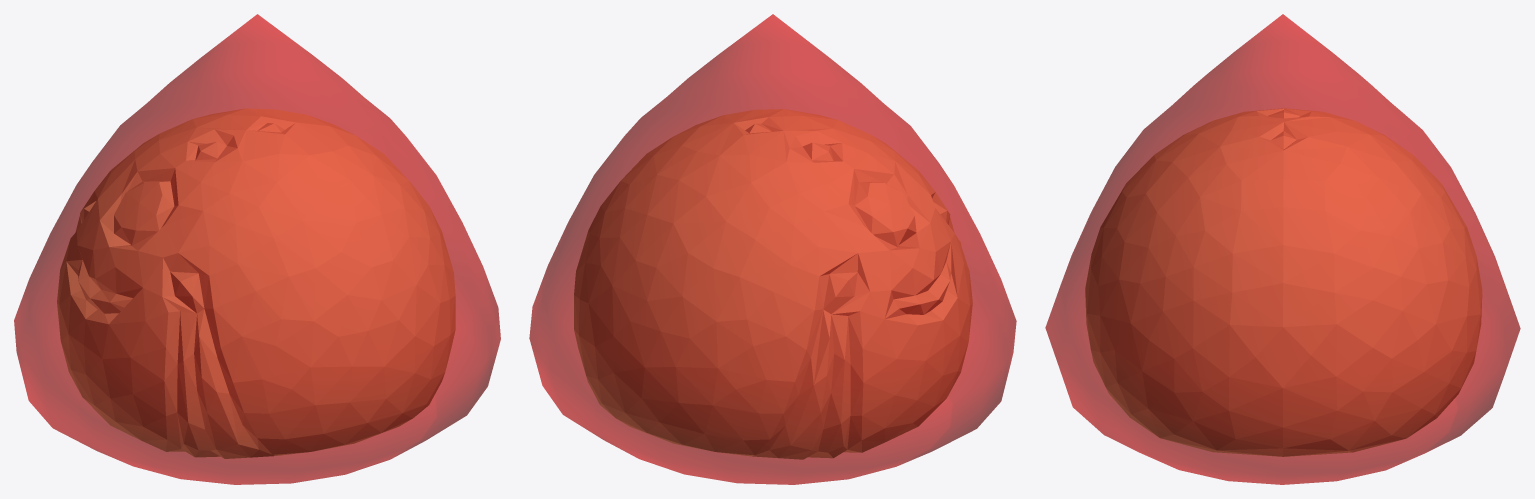
File: fire sprite cel test.fbx
3 renders of one model, left to right at view 1: azimuth 30°, elevation 25°; view 2: azimuth 150°, elevation 25°; view 3: azimuth 270°, elevation 25°, orthographic.
Visible parts, largest first — view 1: pSphere1, sprite_statue:Group44008; view 2: pSphere1, sprite_statue:Group44008; view 3: pSphere1, sprite_statue:Group44008.
Part boxes in pixels (x1,y1,x2,y2): pSphere1: [14, 14, 500, 484]; sprite_statue:Group44008: [57, 108, 455, 458]; pSphere1: [529, 14, 1016, 484]; sprite_statue:Group44008: [574, 109, 972, 459]; pSphere1: [1045, 14, 1520, 484]; sprite_statue:Group44008: [1085, 108, 1482, 456].
Bounding box in the file's own units: 22.3 × 19.78 × 21.52.
